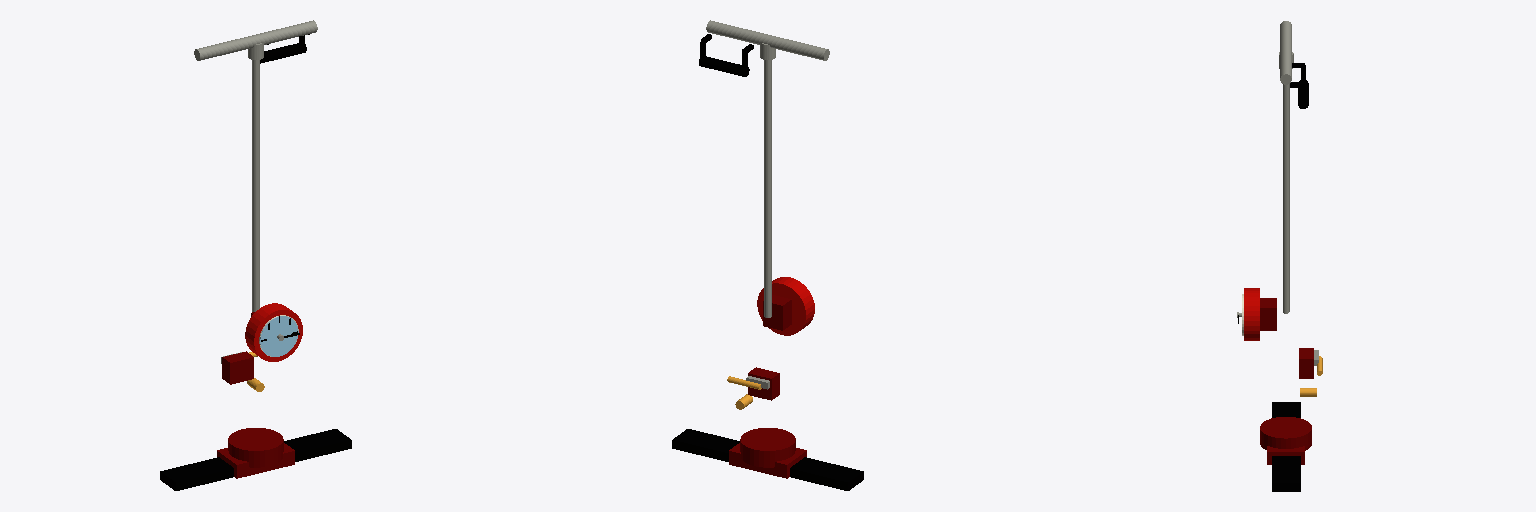
URDF robot description (service_station_pump):
<robot name="service_station_pump">
  <material name="red_enamel">
    <color rgba="0.78 0.06 0.035 1" />
    </material>
  <material name="dark_red">
    <color rgba="0.45 0.025 0.02 1" />
    </material>
  <material name="black_rubber">
    <color rgba="0.015 0.014 0.012 1" />
    </material>
  <material name="brushed_steel">
    <color rgba="0.62 0.62 0.58 1" />
    </material>
  <material name="brass">
    <color rgba="0.92 0.66 0.24 1" />
    </material>
  <material name="gauge_face">
    <color rgba="0.94 0.91 0.82 1" />
    </material>
  <material name="smoky_glass">
    <color rgba="0.65 0.85 0.95 0.45" />
    </material>
  <link name="body">
    <visual name="base_bridge">
      <origin xyz="0 0 0.025" rpy="0 0 0" />
      <geometry>
        <box size="0.22 0.13 0.05" />
        </geometry>
      <material name="dark_red">
        <color rgba="0.45 0.025 0.02 1" />
        </material>
      </visual>
    <visual name="foot_pad_0">
      <origin xyz="-0.2 0 0.016" rpy="0 0 0" />
      <geometry>
        <box size="0.26 0.1 0.032" />
        </geometry>
      <material name="black_rubber">
        <color rgba="0.015 0.014 0.012 1" />
        </material>
      </visual>
    <visual name="foot_pad_1">
      <origin xyz="0.2 0 0.016" rpy="0 0 0" />
      <geometry>
        <box size="0.26 0.1 0.032" />
        </geometry>
      <material name="black_rubber">
        <color rgba="0.015 0.014 0.012 1" />
        </material>
      </visual>
    <visual name="base_socket">
      <origin xyz="0 0 0.06" rpy="0 0 0" />
      <geometry>
        <cylinder radius="0.09" length="0.06" />
        </geometry>
      <material name="dark_red">
        <color rgba="0.45 0.025 0.02 1" />
        </material>
      </visual>
    <visual name="barrel">
      <origin xyz="0 0 0.49" rpy="0 0 0" />
      <geometry>
        <mesh filename="assets/meshes/barrel_tube.obj" />
        </geometry>
      <material name="red_enamel">
        <color rgba="0.78 0.06 0.035 1" />
        </material>
      </visual>
    <visual name="top_collar">
      <origin xyz="0 0 0.905" rpy="0 0 0" />
      <geometry>
        <mesh filename="assets/meshes/top_collar_tube.obj" />
        </geometry>
      <material name="dark_red">
        <color rgba="0.45 0.025 0.02 1" />
        </material>
      </visual>
    <visual name="top_bushing">
      <origin xyz="0 0 0.925" rpy="0 0 0" />
      <geometry>
        <mesh filename="assets/meshes/top_guide_bushing.obj" />
        </geometry>
      <material name="brass">
        <color rgba="0.92 0.66 0.24 1" />
        </material>
      </visual>
    <visual name="bottom_collar">
      <origin xyz="0 0 0.105" rpy="0 0 0" />
      <geometry>
        <mesh filename="assets/meshes/bottom_collar_tube.obj" />
        </geometry>
      <material name="dark_red">
        <color rgba="0.45 0.025 0.02 1" />
        </material>
      </visual>
    <visual name="gauge_neck">
      <origin xyz="0 -0.066 0.52" rpy="0 0 0" />
      <geometry>
        <box size="0.075 0.07 0.09" />
        </geometry>
      <material name="dark_red">
        <color rgba="0.45 0.025 0.02 1" />
        </material>
      </visual>
    <visual name="gauge_housing">
      <origin xyz="0 -0.118 0.52" rpy="-1.5708 0 0" />
      <geometry>
        <cylinder radius="0.092" length="0.058" />
        </geometry>
      <material name="red_enamel">
        <color rgba="0.78 0.06 0.035 1" />
        </material>
      </visual>
    <visual name="gauge_dial">
      <origin xyz="0 -0.149 0.52" rpy="-1.5708 0 0" />
      <geometry>
        <cylinder radius="0.073" length="0.005" />
        </geometry>
      <material name="gauge_face">
        <color rgba="0.94 0.91 0.82 1" />
        </material>
      </visual>
    <visual name="gauge_bezel">
      <origin xyz="0 -0.15 0.52" rpy="-1.5708 0 0" />
      <geometry>
        <mesh filename="assets/meshes/gauge_bezel_ring.obj" />
        </geometry>
      <material name="brushed_steel">
        <color rgba="0.62 0.62 0.58 1" />
        </material>
      </visual>
    <visual name="gauge_lens">
      <origin xyz="0 -0.151 0.52" rpy="-1.5708 0 0" />
      <geometry>
        <cylinder radius="0.072" length="0.003" />
        </geometry>
      <material name="smoky_glass">
        <color rgba="0.65 0.85 0.95 0.45" />
        </material>
      </visual>
    <visual name="gauge_tick_0">
      <origin xyz="-0.04 -0.15 0.565" rpy="0 0 0" />
      <geometry>
        <box size="0.006 0.006 0.022" />
        </geometry>
      <material name="black_rubber">
        <color rgba="0.015 0.014 0.012 1" />
        </material>
      </visual>
    <visual name="gauge_tick_1">
      <origin xyz="0 -0.15 0.58" rpy="0 0 0" />
      <geometry>
        <box size="0.006 0.006 0.024" />
        </geometry>
      <material name="black_rubber">
        <color rgba="0.015 0.014 0.012 1" />
        </material>
      </visual>
    <visual name="gauge_tick_2">
      <origin xyz="0.04 -0.15 0.565" rpy="0 0 0" />
      <geometry>
        <box size="0.006 0.006 0.022" />
        </geometry>
      <material name="black_rubber">
        <color rgba="0.015 0.014 0.012 1" />
        </material>
      </visual>
    <visual name="gauge_tick_3">
      <origin xyz="-0.058 -0.15 0.52" rpy="0 0 0" />
      <geometry>
        <box size="0.02 0.006 0.006" />
        </geometry>
      <material name="black_rubber">
        <color rgba="0.015 0.014 0.012 1" />
        </material>
      </visual>
    <visual name="gauge_tick_4">
      <origin xyz="0.058 -0.15 0.52" rpy="0 0 0" />
      <geometry>
        <box size="0.02 0.006 0.006" />
        </geometry>
      <material name="black_rubber">
        <color rgba="0.015 0.014 0.012 1" />
        </material>
      </visual>
    <visual name="gauge_pivot">
      <origin xyz="0 -0.158 0.52" rpy="-1.5708 0 0" />
      <geometry>
        <cylinder radius="0.008" length="0.014" />
        </geometry>
      <material name="brushed_steel">
        <color rgba="0.62 0.62 0.58 1" />
        </material>
      </visual>
    <visual name="hose_outlet">
      <origin xyz="0.044 0.078 0.245" rpy="-1.5708 0 0" />
      <geometry>
        <cylinder radius="0.016" length="0.06" />
        </geometry>
      <material name="brass">
        <color rgba="0.92 0.66 0.24 1" />
        </material>
      </visual>
    <visual name="hose">
      <geometry>
        <mesh filename="assets/meshes/stowed_hose_mesh.obj" />
        </geometry>
      <material name="black_rubber">
        <color rgba="0.015 0.014 0.012 1" />
        </material>
      </visual>
    <visual name="hose_clip">
      <origin xyz="-0.025 0.071 0.323" rpy="0 0 0" />
      <geometry>
        <box size="0.09 0.052 0.078" />
        </geometry>
      <material name="dark_red">
        <color rgba="0.45 0.025 0.02 1" />
        </material>
      </visual>
    <visual name="clip_lip">
      <origin xyz="-0.025 0.105 0.342" rpy="0 0 0" />
      <geometry>
        <box size="0.08 0.02 0.024" />
        </geometry>
      <material name="brushed_steel">
        <color rgba="0.62 0.62 0.58 1" />
        </material>
      </visual>
    <visual name="hose_nozzle">
      <origin xyz="0.02 0.116 0.334" rpy="0 1.5708 0" />
      <geometry>
        <cylinder radius="0.01" length="0.12" />
        </geometry>
      <material name="brass">
        <color rgba="0.92 0.66 0.24 1" />
        </material>
      </visual>
    </link>
  <link name="handle">
    <visual name="piston_rod">
      <origin xyz="0 0 0.125" rpy="0 0 0" />
      <geometry>
        <cylinder radius="0.012" length="0.99" />
        </geometry>
      <material name="brushed_steel">
        <color rgba="0.62 0.62 0.58 1" />
        </material>
      </visual>
    <visual name="top_bar">
      <origin xyz="0 0 0.62" rpy="0 1.5708 0" />
      <geometry>
        <cylinder radius="0.02" length="0.44" />
        </geometry>
      <material name="brushed_steel">
        <color rgba="0.62 0.62 0.58 1" />
        </material>
      </visual>
    <visual name="bar_boss">
      <origin xyz="0 0 0.59" rpy="0 0 0" />
      <geometry>
        <cylinder radius="0.026" length="0.055" />
        </geometry>
      <material name="brushed_steel">
        <color rgba="0.62 0.62 0.58 1" />
        </material>
      </visual>
    </link>
  <link name="grip">
    <visual name="sleeve">
      <origin xyz="0 0 0" rpy="0 1.5708 0" />
      <geometry>
        <mesh filename="assets/meshes/folding_grip_sleeve.obj" />
        </geometry>
      <material name="black_rubber">
        <color rgba="0.015 0.014 0.012 1" />
        </material>
      </visual>
    <visual name="lug_0">
      <origin xyz="-0.078 0.04 -0.026" rpy="0 0 0" />
      <geometry>
        <box size="0.014 0.05 0.014" />
        </geometry>
      <material name="black_rubber">
        <color rgba="0.015 0.014 0.012 1" />
        </material>
      </visual>
    <visual name="lug_1">
      <origin xyz="0.078 0.04 -0.026" rpy="0 0 0" />
      <geometry>
        <box size="0.014 0.05 0.014" />
        </geometry>
      <material name="black_rubber">
        <color rgba="0.015 0.014 0.012 1" />
        </material>
      </visual>
    <visual name="side_arm_0">
      <origin xyz="-0.078 0.06 -0.062" rpy="0 0 0" />
      <geometry>
        <box size="0.014 0.016 0.07" />
        </geometry>
      <material name="black_rubber">
        <color rgba="0.015 0.014 0.012 1" />
        </material>
      </visual>
    <visual name="side_arm_1">
      <origin xyz="0.078 0.06 -0.062" rpy="0 0 0" />
      <geometry>
        <box size="0.014 0.016 0.07" />
        </geometry>
      <material name="black_rubber">
        <color rgba="0.015 0.014 0.012 1" />
        </material>
      </visual>
    <visual name="folding_bar">
      <origin xyz="0 0.06 -0.098" rpy="0 1.5708 0" />
      <geometry>
        <cylinder radius="0.018" length="0.17" />
        </geometry>
      <material name="black_rubber">
        <color rgba="0.015 0.014 0.012 1" />
        </material>
      </visual>
    </link>
  <link name="needle">
    <visual name="pointer">
      <origin xyz="0.03 -0.004 0" rpy="0 0 0" />
      <geometry>
        <box size="0.074 0.004 0.006" />
        </geometry>
      <material name="black_rubber">
        <color rgba="0.015 0.014 0.012 1" />
        </material>
      </visual>
    <visual name="hub">
      <origin xyz="0 -0.004 0" rpy="-1.5708 0 0" />
      <geometry>
        <cylinder radius="0.01" length="0.006" />
        </geometry>
      <material name="brushed_steel">
        <color rgba="0.62 0.62 0.58 1" />
        </material>
      </visual>
    </link>
  <joint name="body_to_handle" type="prismatic">
    <origin xyz="0 0 0.9" rpy="0 0 0" />
    <parent link="body" />
    <child link="handle" />
    <axis xyz="0 0 1" />
    <limit effort="180" velocity="0.35" lower="0" upper="0.25" />
    </joint>
  <joint name="handle_to_grip" type="continuous">
    <origin xyz="0.13 0 0.62" rpy="0 0 0" />
    <parent link="handle" />
    <child link="grip" />
    <axis xyz="1 0 0" />
    <limit effort="2" velocity="6" />
    </joint>
  <joint name="body_to_needle" type="continuous">
    <origin xyz="0 -0.161 0.52" rpy="0 0 0" />
    <parent link="body" />
    <child link="needle" />
    <axis xyz="0 -1 0" />
    <limit effort="0.05" velocity="20" />
    </joint>
  </robot>

--- Facts derived from the render (not from the file) ---
Views: 3 orthographic renders of the robot side by side, from view 1: azimuth 30°, elevation 25°; view 2: azimuth 150°, elevation 25°; view 3: azimuth 270°, elevation 25°.
Robot: service_station_pump — 4 links, 3 joints (2 continuous, 1 prismatic); root link body; default pose: all joints at 0.
Visible links, largest first — view 1: body, handle, grip; view 2: body, handle, grip; view 3: body, handle.
Link boxes in pixels (bbox=[...]): body: bbox=[160, 303, 351, 490]; handle: bbox=[194, 20, 317, 311]; grip: bbox=[260, 34, 309, 63]; body: bbox=[672, 277, 863, 490]; handle: bbox=[706, 20, 829, 317]; grip: bbox=[699, 34, 753, 76]; body: bbox=[1239, 288, 1322, 491]; handle: bbox=[1279, 21, 1293, 313].
Bounding box of the posed robot: 0.66 × 0.294 × 1.54 m (x, y, z).
0 mesh visuals loaded from 7 distinct referenced files (none loaded); not drawn: 7 (reference not matched to a file when rendering).
